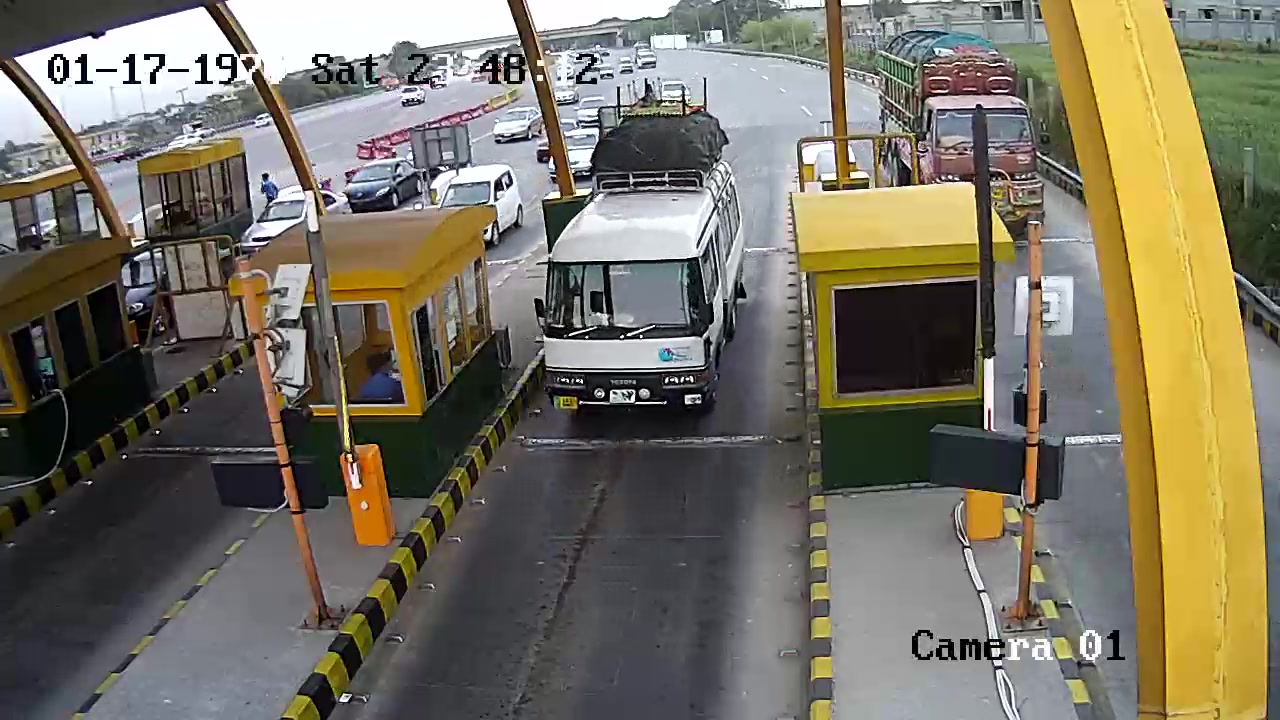F3: (537, 65, 748, 423)
